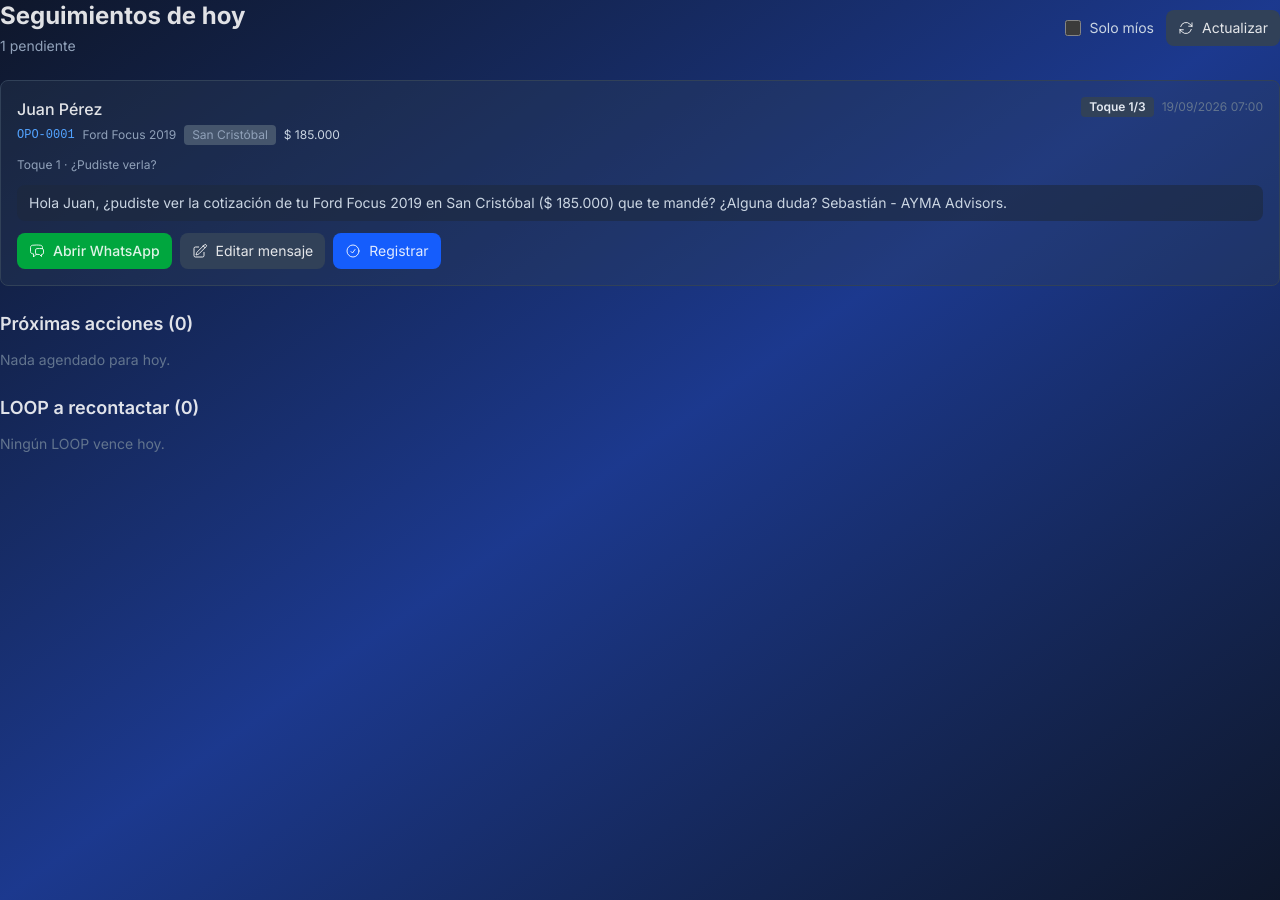
Scenario: Registrar toque · ¿hubo respuesta? sin default › un 422 deja el modal abierto con el texto del backend
The image size is (1280, 900).
Check: the button "Juan Pérez" is shown, box top-left (17, 97), bottom-right (102, 121)
Click the button "Registrar" at (387, 251), box top-left (333, 233), bottom-right (440, 269)
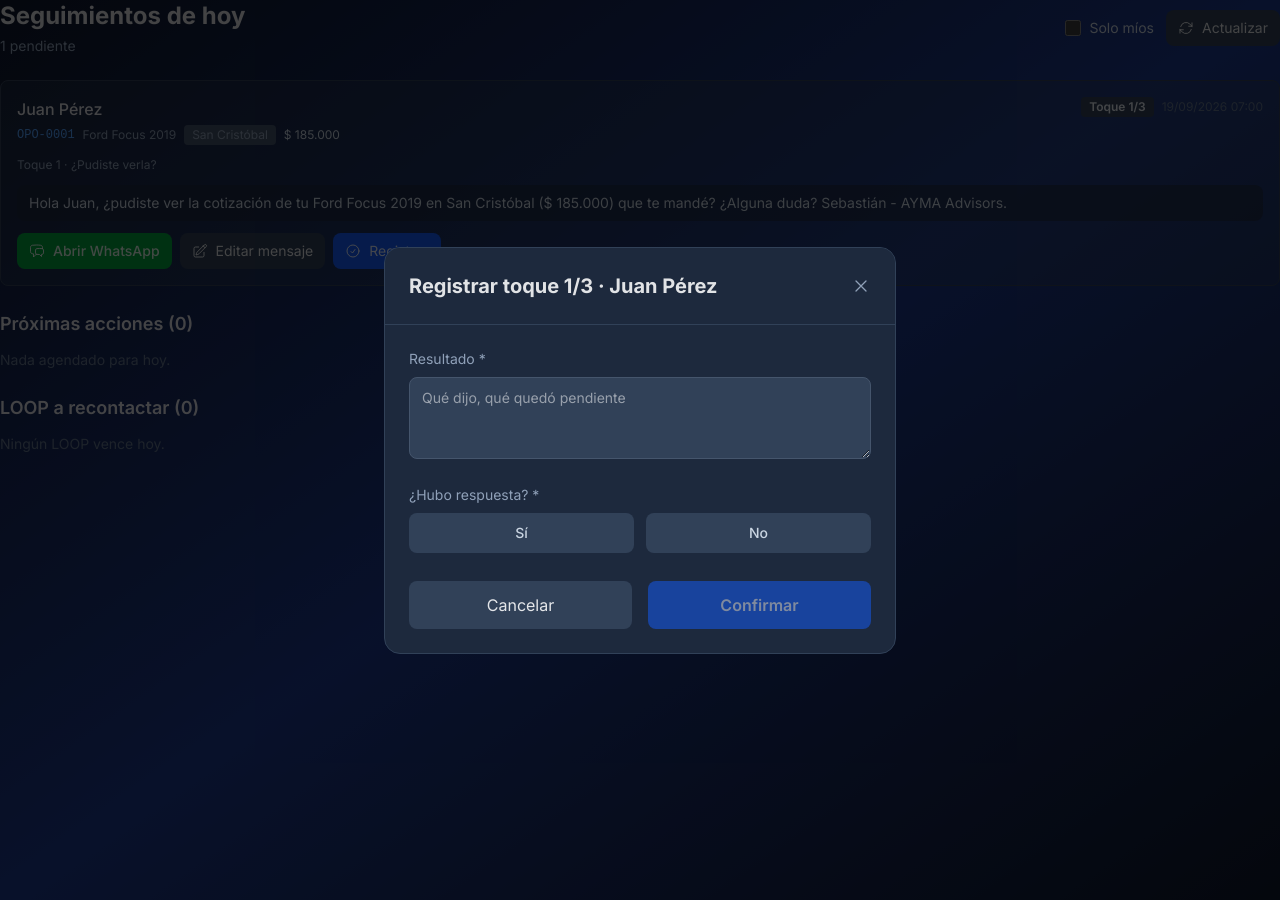
Type "Hablamos" into the text box labelled "Resultado *" at (640, 418), box top-left (409, 376), bottom-right (871, 458)
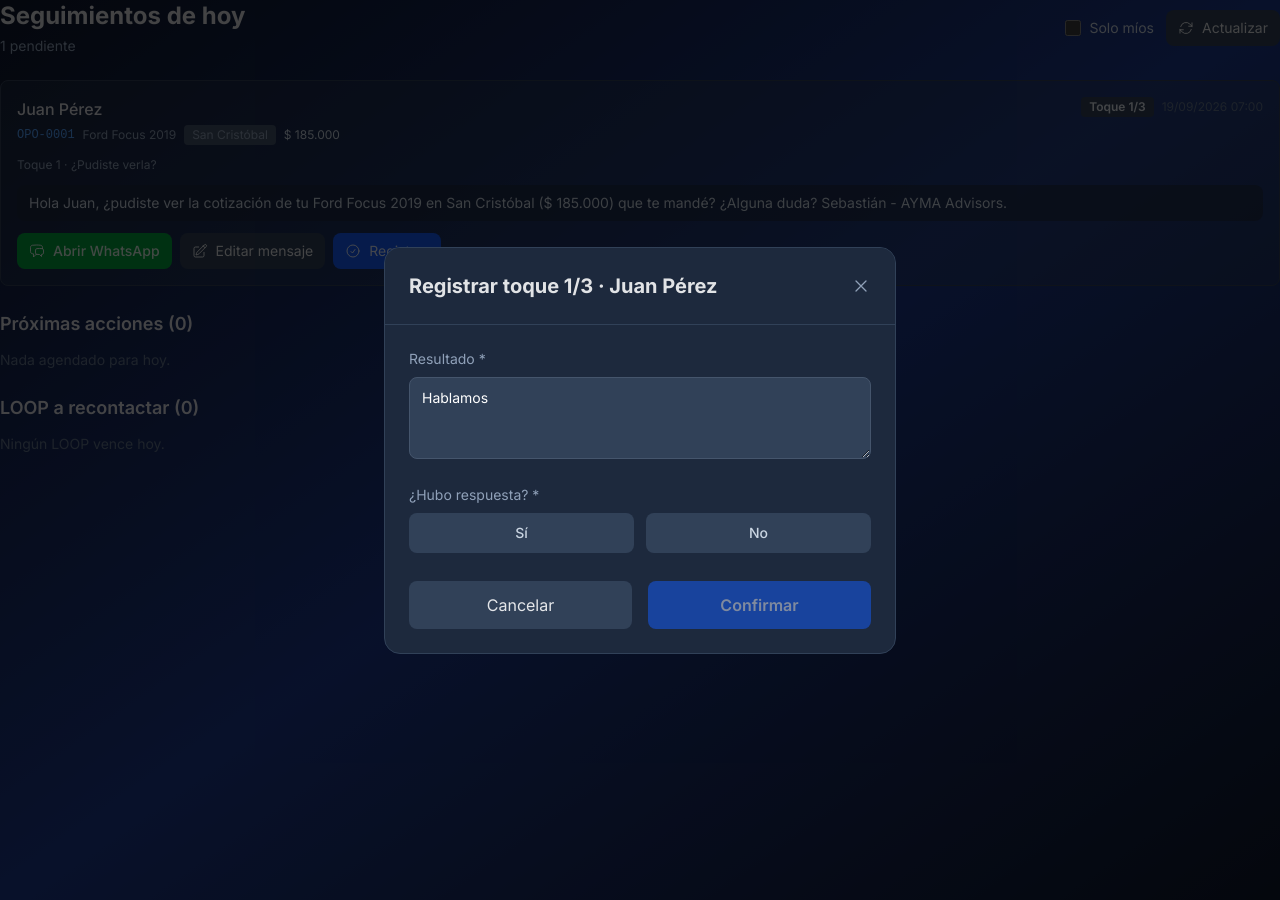
Click the radio button labelled "Sí" at (522, 532), box top-left (409, 512), bottom-right (634, 552)
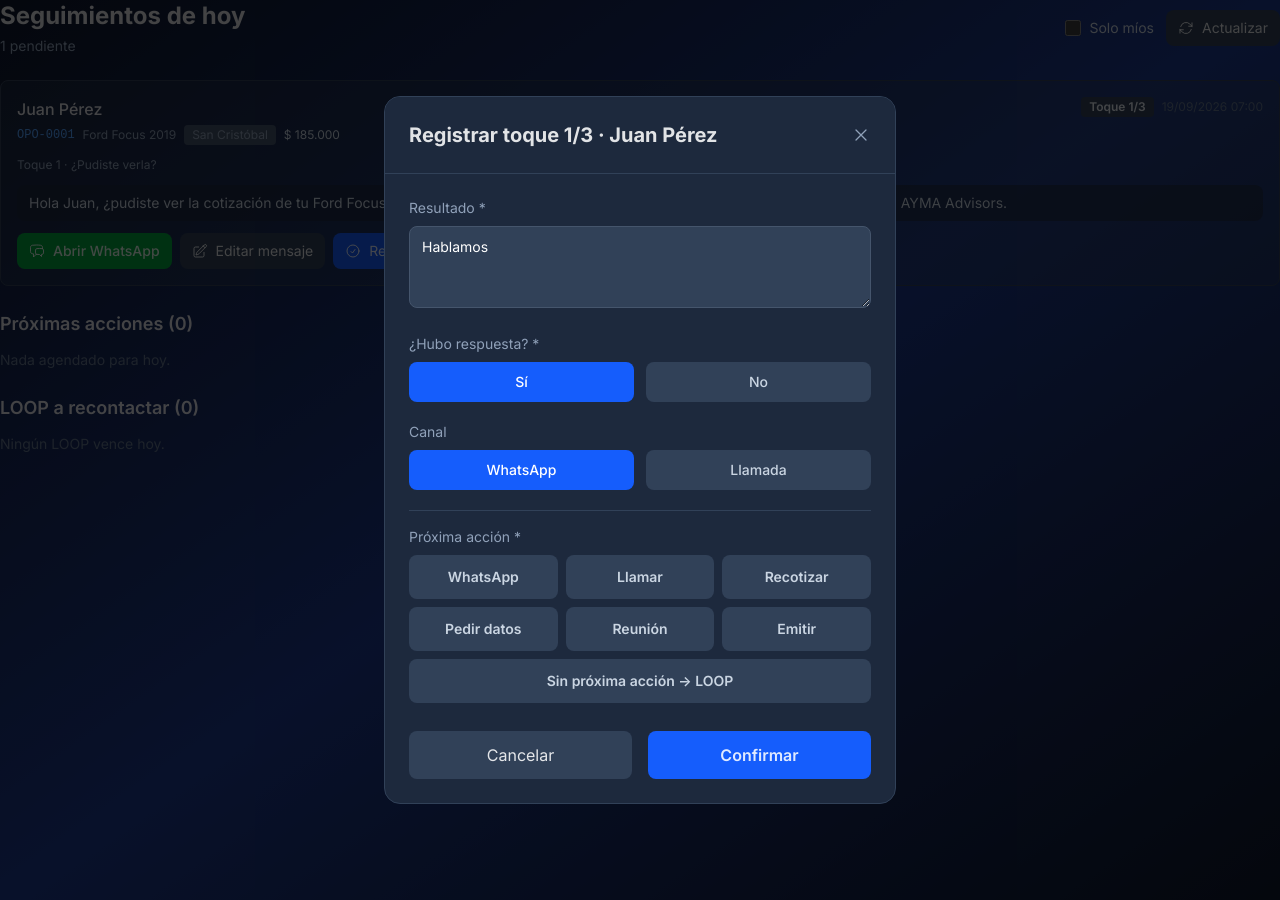
Check: the element "próxima acción" is shown, box top-left (409, 555), bottom-right (871, 703)
Click the radio button labelled "WhatsApp" below "Próxima acción *" at (483, 577), box top-left (409, 555), bottom-right (558, 599)
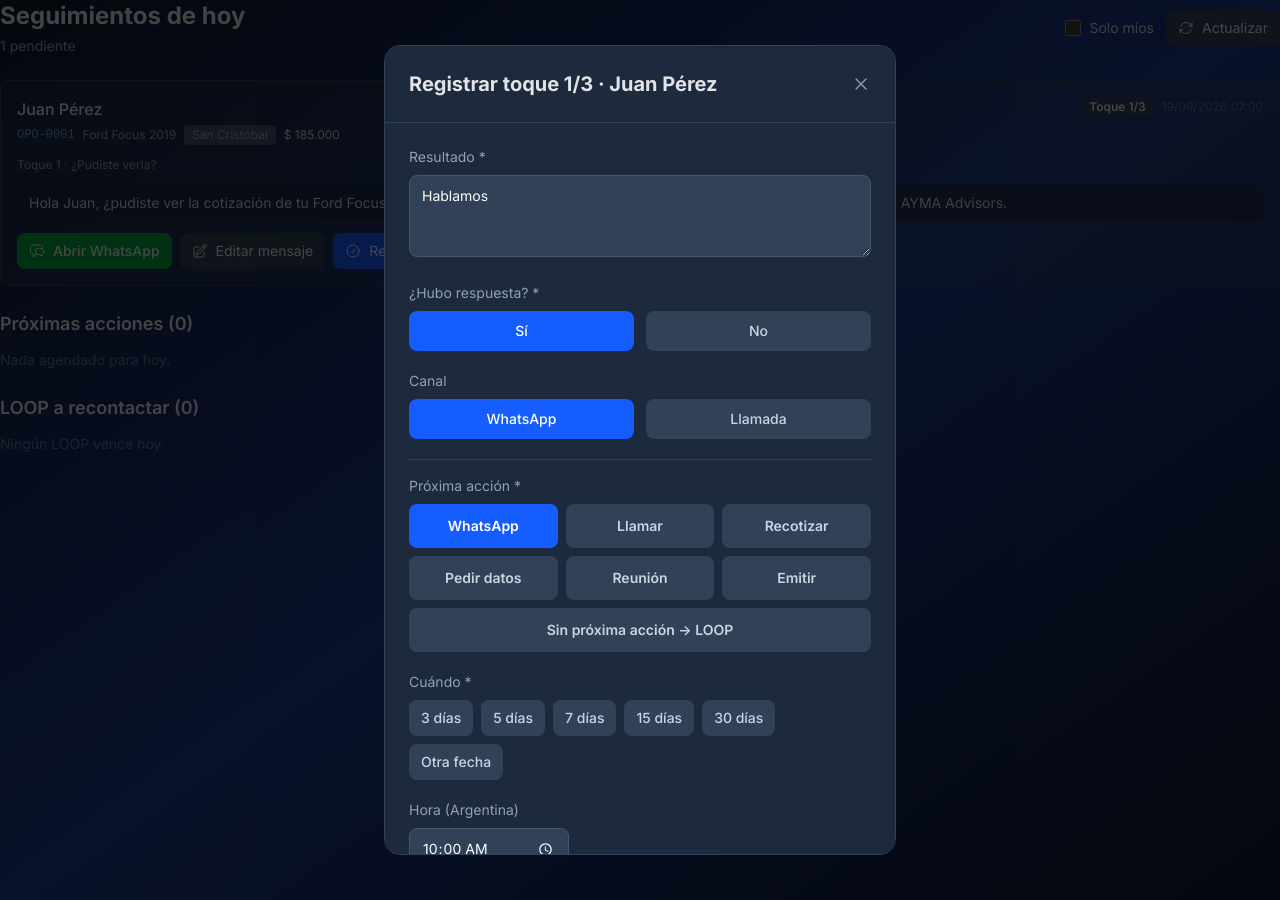
Click the button "3 días" at (441, 718), box top-left (409, 700), bottom-right (473, 736)
(page scrolled)
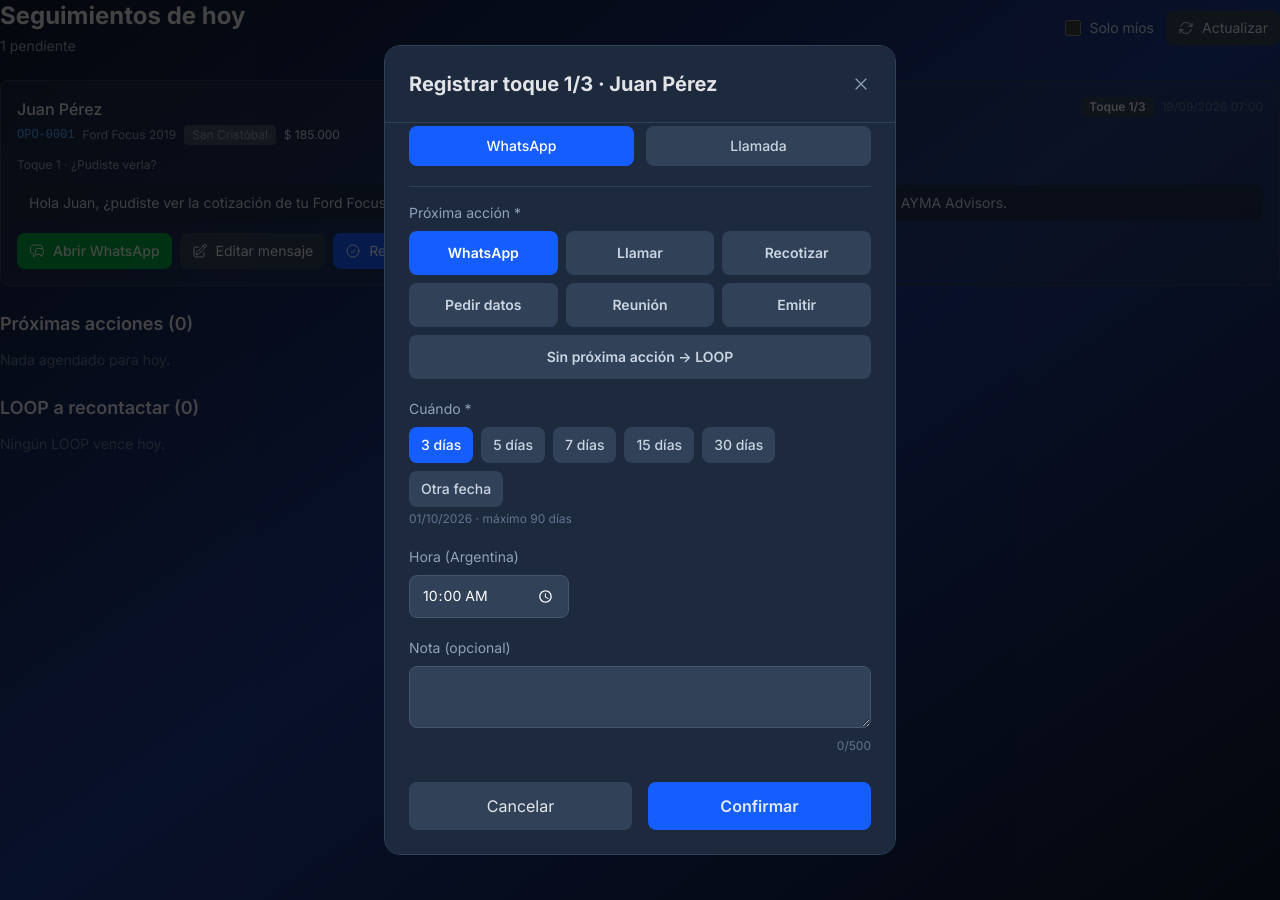
Click the button "Confirmar" at (760, 806), box top-left (648, 782), bottom-right (871, 830)
(page scrolled)
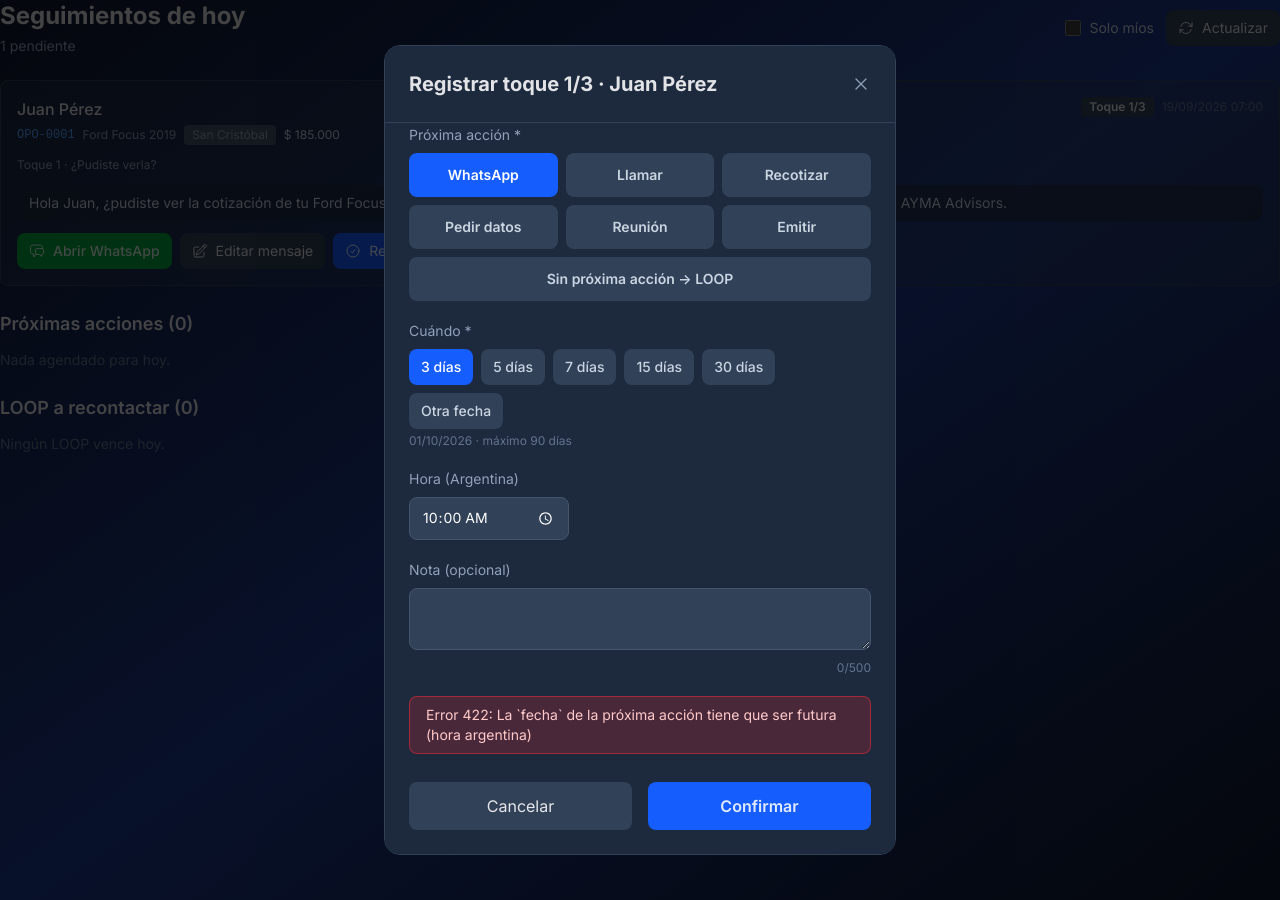
Check: the button "Confirmar" is shown, box top-left (648, 782), bottom-right (871, 830)
Check: the message shows "tiene que ser futura (hora argentina)", box top-left (426, 706), bottom-right (837, 743)
